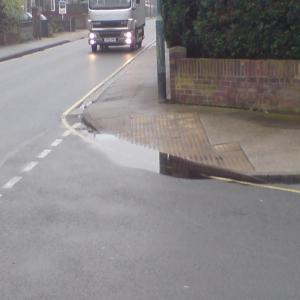Vehicle-registration-plate: (104, 38, 117, 43)
